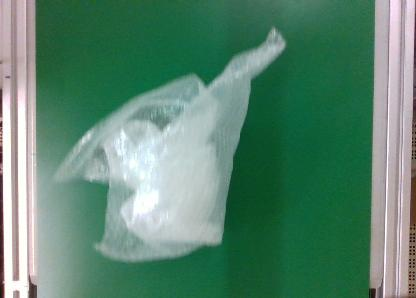Others: (52, 23, 286, 263)
